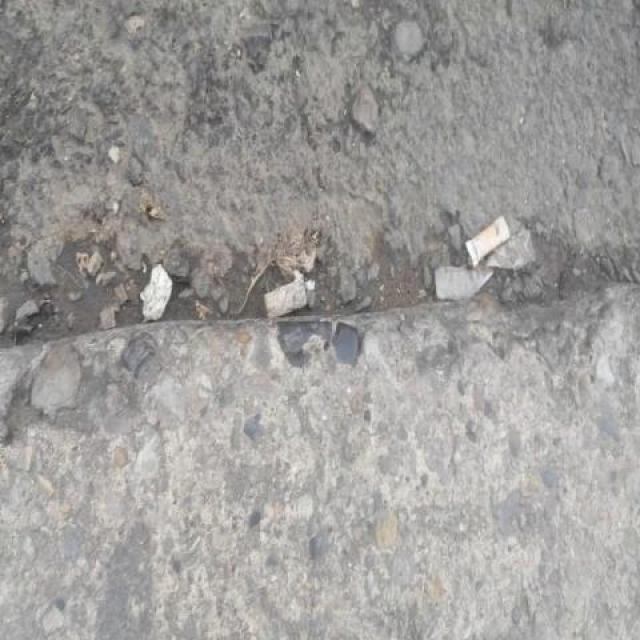non-organic waste: (460, 210, 516, 273)
